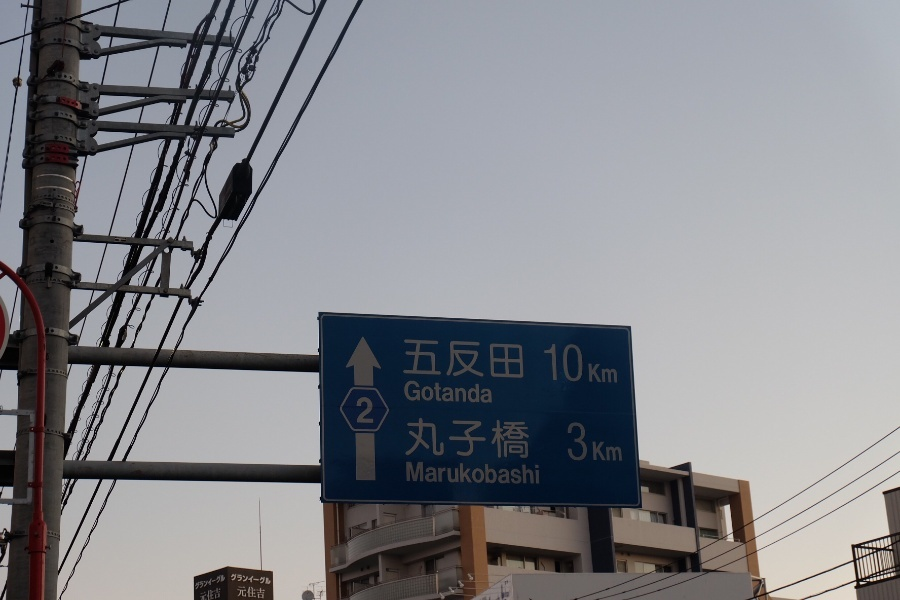text: (417, 418, 432, 459), (433, 418, 448, 459), (449, 418, 464, 459), (465, 418, 480, 459), (481, 418, 496, 459), (497, 418, 512, 459), (513, 418, 528, 459), (417, 340, 432, 380), (433, 340, 448, 380), (449, 340, 464, 380), (465, 340, 480, 380), (481, 340, 496, 380), (497, 340, 512, 380), (545, 343, 560, 383), (561, 343, 576, 383), (577, 343, 592, 383), (593, 343, 608, 383), (577, 423, 592, 462), (593, 423, 608, 462), (609, 423, 622, 462), (404, 340, 416, 380), (513, 340, 524, 380), (407, 418, 416, 459), (609, 343, 618, 383), (417, 462, 432, 484), (433, 462, 448, 484), (449, 462, 464, 484), (465, 462, 480, 484), (481, 462, 496, 484), (497, 462, 512, 484), (513, 462, 528, 484), (417, 382, 432, 403), (433, 382, 448, 403), (449, 382, 464, 403), (465, 382, 480, 403), (568, 423, 576, 462), (357, 398, 368, 423), (481, 382, 493, 403), (529, 462, 540, 484), (209, 574, 224, 590), (405, 382, 416, 403), (406, 462, 416, 484), (195, 574, 208, 590), (241, 574, 256, 587), (241, 586, 256, 599), (257, 574, 271, 587), (209, 587, 221, 600), (369, 398, 374, 423), (199, 587, 208, 600), (257, 586, 266, 599), (232, 574, 240, 587), (529, 418, 530, 459), (238, 586, 240, 599), (225, 574, 226, 590)
